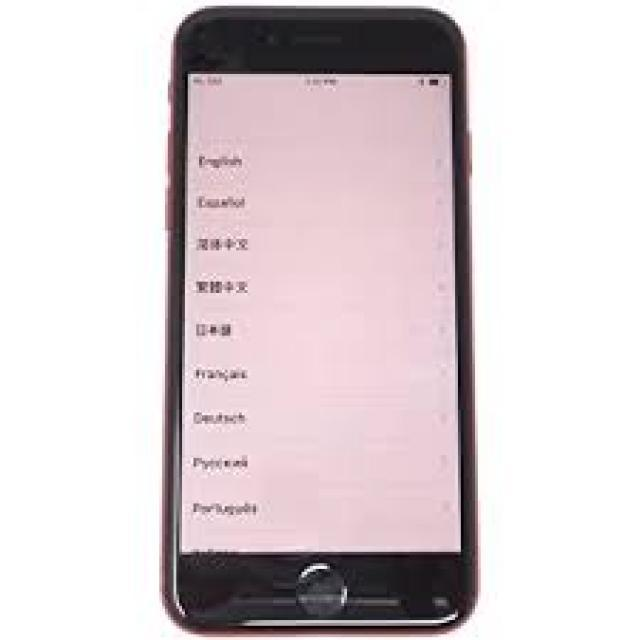phone: (162, 0, 484, 637)
